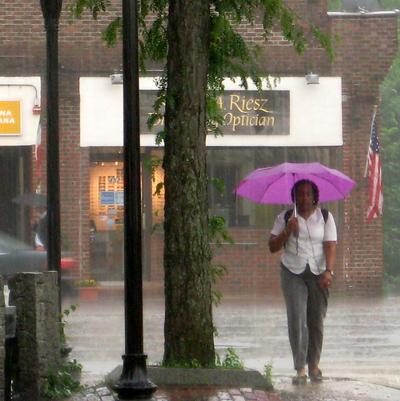person: (267, 178, 337, 384)
